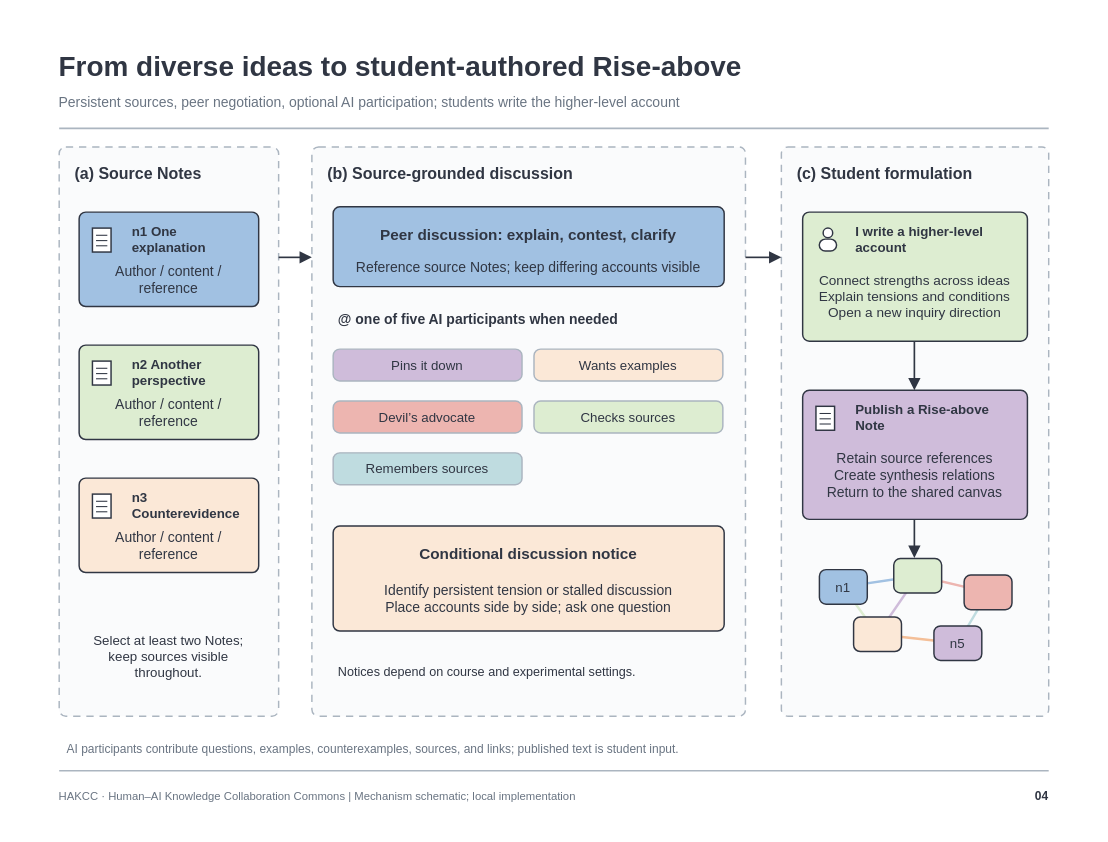
This 1108x842 diagram has some shape labels left out. Each missing label, with the centre of its shape:
"n2" goes at [917,575].
"n3" goes at [987,592].
"n4" goes at [877,634].
